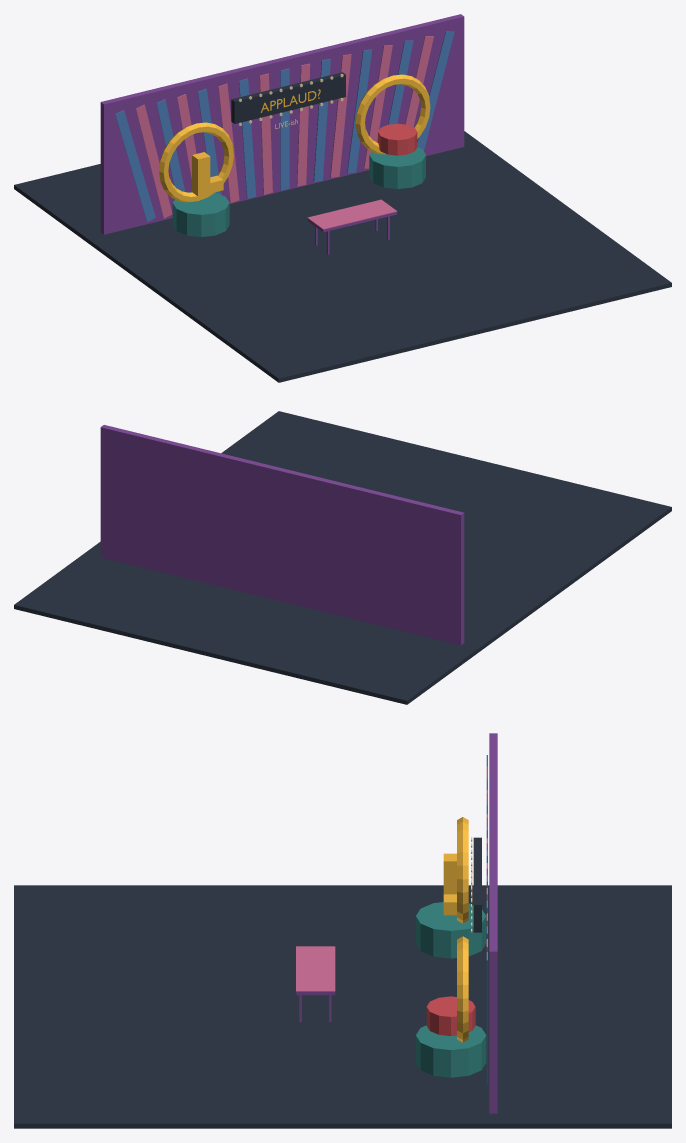
Rendered from theatre-tv-studio.glb.
The picture shows the model from 3 angles, top to bottom: view 1: azimuth 30°, elevation 25°; view 2: azimuth 150°, elevation 25°; view 3: azimuth 270°, elevation 25°; orthographic projection. The views are drawn at different scales.
Visible parts, largest first — view 1: Floor, BG_Cyclorama, BG_ApplauseBoard, BG_PrizePlinth, BG_PrizePortal, BG_PrizePlinth.001, BG_PrizePortal.001, Table_top, BG_Sunburst, BG_PrizeButton, BG_Sunburst.001, BG_Sunburst.011 (+15 smaller); view 2: Floor, BG_Cyclorama; view 3: Floor, BG_Cyclorama, BG_PrizePlinth.001, BG_PrizePlinth, Table_top, BG_PrizeButton, BG_PrizePortal, BG_PrizePortal.001, BG_ApplauseBoard, BG_GoldenSockLeg.
Part boxes in pixels (left/top/right/bottom): Floor: left=14, top=131, right=671, bottom=382; BG_Cyclorama: left=100, top=14, right=464, bottom=234; BG_ApplauseBoard: left=231, top=72, right=345, bottom=123; BG_PrizePlinth: left=172, top=192, right=229, bottom=236; BG_PrizePortal: left=159, top=122, right=233, bottom=202; BG_PrizePlinth.001: left=369, top=147, right=425, bottom=189; BG_PrizePortal.001: left=355, top=74, right=430, bottom=154; Table_top: left=307, top=199, right=397, bottom=229; BG_Sunburst: left=115, top=110, right=155, bottom=222; BG_PrizeButton: left=378, top=123, right=417, bottom=155; BG_Sunburst.001: left=136, top=104, right=172, bottom=218; BG_Sunburst.011: left=330, top=54, right=351, bottom=177; Floor: left=14, top=411, right=671, bottom=704; BG_Cyclorama: left=100, top=425, right=464, bottom=645; Floor: left=14, top=885, right=671, bottom=1128; BG_Cyclorama: left=489, top=733, right=497, bottom=1113; BG_PrizePlinth.001: left=416, top=1025, right=486, bottom=1077; BG_PrizePlinth: left=416, top=902, right=486, bottom=958; Table_top: left=296, top=946, right=335, bottom=991; BG_PrizeButton: left=426, top=996, right=475, bottom=1035; BG_PrizePortal: left=457, top=817, right=468, bottom=923; BG_PrizePortal.001: left=457, top=936, right=468, bottom=1042; BG_ApplauseBoard: left=473, top=837, right=481, bottom=932; BG_GoldenSockLeg: left=443, top=853, right=456, bottom=894.
Bounding box in the file's own units: 12 × 3.92 × 14.
